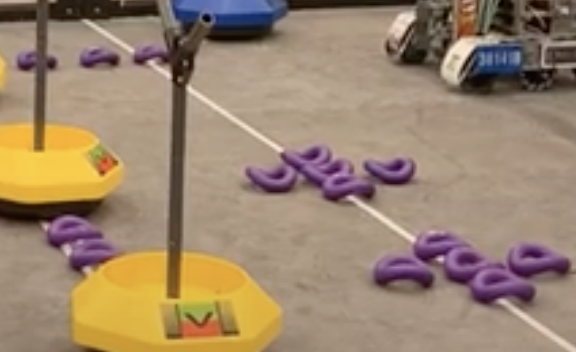ring: (471, 267, 536, 304), (443, 245, 506, 281), (373, 252, 434, 288), (509, 242, 571, 277), (412, 229, 474, 259), (48, 214, 102, 242), (322, 173, 375, 201), (245, 165, 297, 193), (363, 157, 416, 184), (70, 238, 118, 267), (305, 159, 355, 183), (280, 146, 332, 169), (17, 48, 57, 70), (79, 45, 118, 67), (134, 44, 169, 63)
